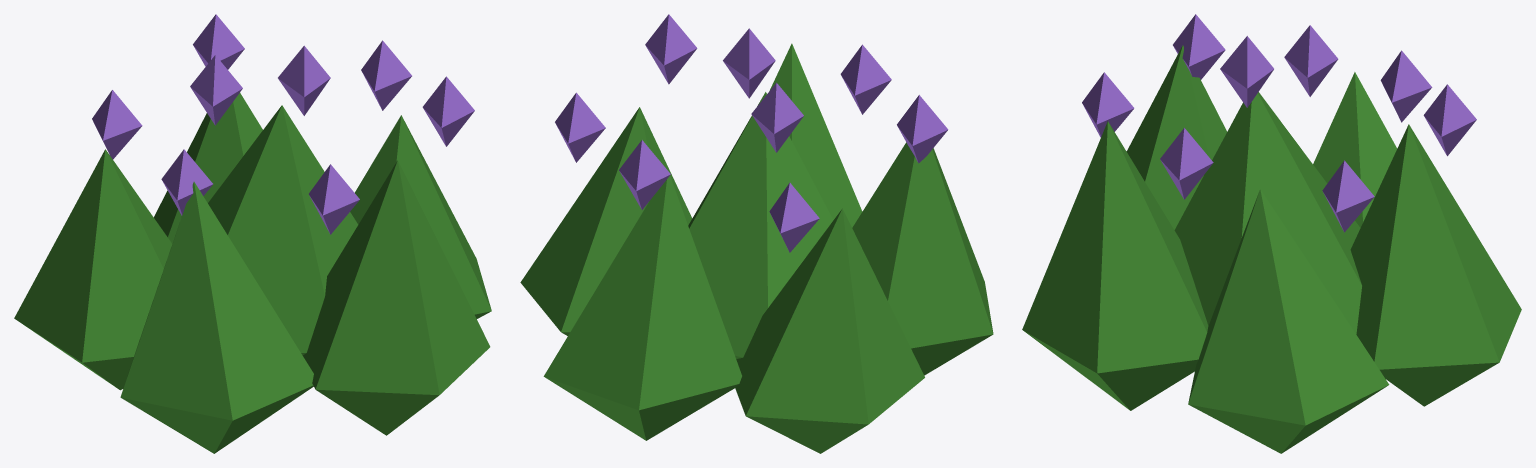
File: alfalfa.glb
3 views of the same model, side by side, from view 1: azimuth 30°, elevation 25°; view 2: azimuth 150°, elevation 25°; view 3: azimuth 270°, elevation 25° (orthographic). The views are drawn at different scales.
Visible parts, largest first — view 1: crop; view 2: crop; view 3: crop.
Part boxes in pixels (left/top/right/bottom): crop: left=14, top=14, right=491, bottom=453; crop: left=520, top=14, right=993, bottom=453; crop: left=1022, top=14, right=1521, bottom=453.
Bounding box in the file's own units: 0.8576 × 0.7 × 0.874.
